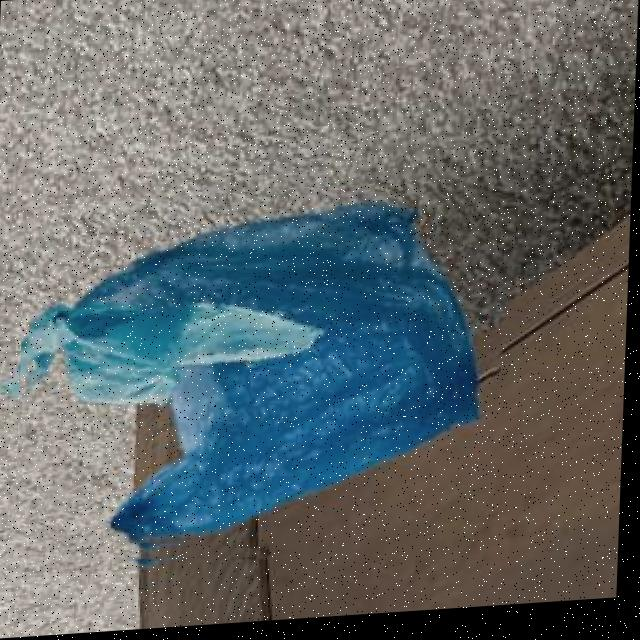plasticcover: (15, 181, 514, 583)
